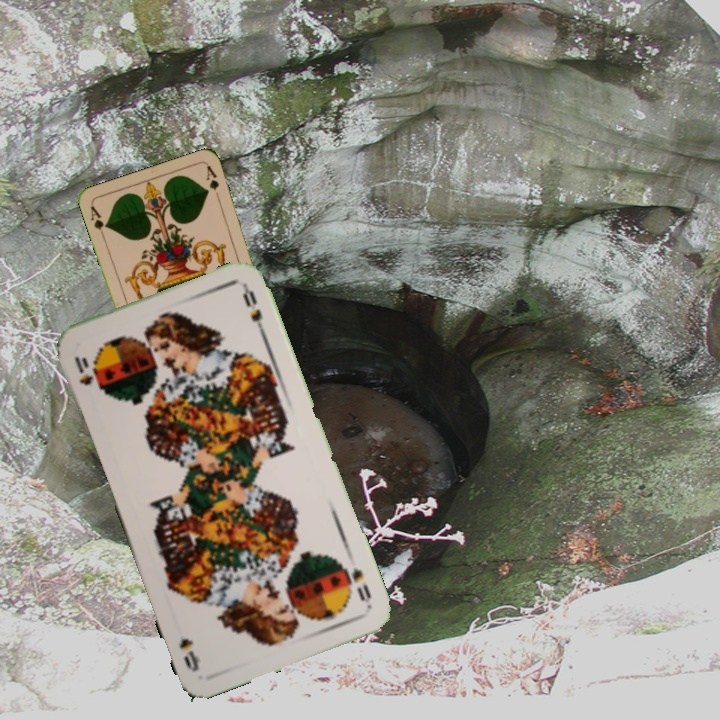GA: (86, 202, 110, 241)
SO: (341, 564, 374, 610), (70, 352, 104, 393)
